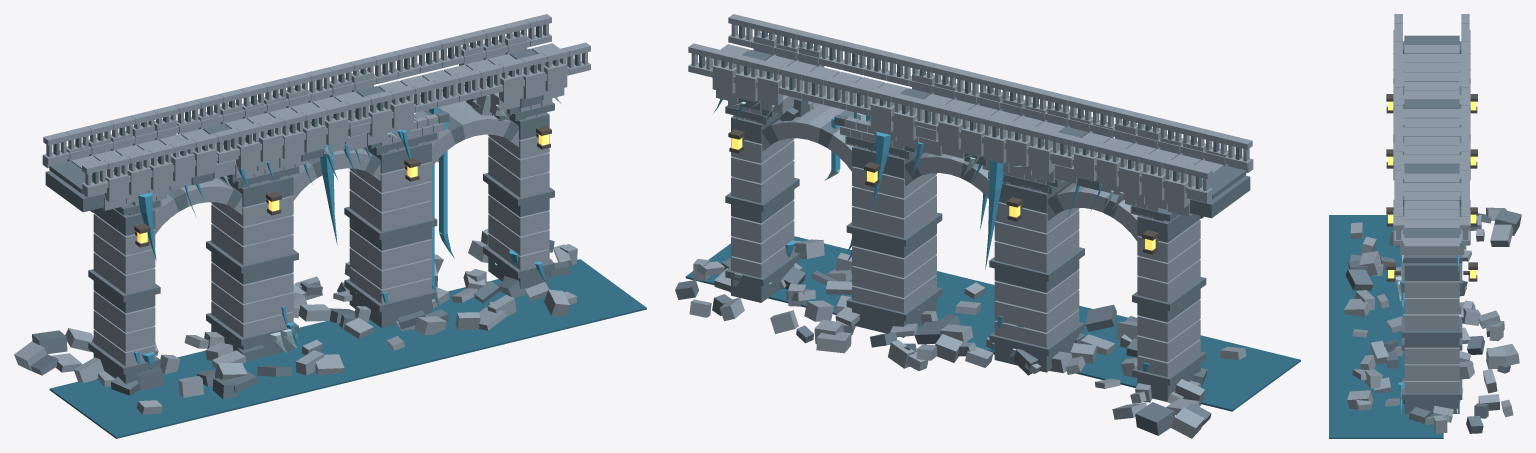
File: ancient_ice_bridge_v02.glb
3 renders of one model, left to right at view 1: azimuth 30°, elevation 25°; view 2: azimuth 150°, elevation 25°; view 3: azimuth 270°, elevation 25°, orthographic. The views are drawn at different scales.
Parts seen in each view (by area): view 1: Frozen pool, Load bearing pier block.002, Load bearing pier block.003, Load bearing pier block.030, Load bearing pier block.005, Load bearing pier block.029, Load bearing pier block.033, Load bearing pier block.032, Load bearing pier block.006, Load bearing pier block.048, Load bearing pier block.047, Load bearing pier block.051 (+34 smaller); view 2: Frozen pool, Load bearing pier block.002, Load bearing pier block.048, Load bearing pier block.003, Load bearing pier block.047, Load bearing pier block.051, Load bearing pier block.012, Load bearing pier block.029, Load bearing pier block.006, Load bearing pier block.015, Load bearing pier block.005, Load bearing pier block.014 (+53 smaller); view 3: Frozen pool, Load bearing pier block.053, Load bearing pier block.048, Load bearing pier block.047, Load bearing pier block.050, Load bearing pier block.052, Load bearing pier block.051, Bridge walking surface.022, Load bearing pier block.046, Load bearing pier block.045, Bridge walking surface, Bridge walking surface.001 (+50 smaller).
Boxes of the visible parts, left/top/right/bottom form: Frozen pool: left=49, top=259, right=646, bottom=438; Load bearing pier block.002: left=93, top=310, right=155, bottom=351; Load bearing pier block.003: left=93, top=291, right=155, bottom=332; Load bearing pier block.030: left=349, top=228, right=411, bottom=270; Load bearing pier block.005: left=93, top=252, right=155, bottom=293; Load bearing pier block.029: left=349, top=248, right=411, bottom=289; Load bearing pier block.033: left=349, top=170, right=411, bottom=212; Load bearing pier block.032: left=349, top=190, right=411, bottom=231; Load bearing pier block.006: left=93, top=233, right=155, bottom=274; Load bearing pier block.048: left=488, top=195, right=549, bottom=236; Load bearing pier block.047: left=488, top=214, right=549, bottom=255; Load bearing pier block.051: left=488, top=137, right=549, bottom=178; Frozen pool: left=685, top=236, right=1300, bottom=411; Load bearing pier block.002: left=1137, top=319, right=1200, bottom=362; Load bearing pier block.048: left=731, top=200, right=794, bottom=243; Load bearing pier block.003: left=1137, top=299, right=1200, bottom=342; Load bearing pier block.047: left=731, top=220, right=794, bottom=262; Load bearing pier block.051: left=731, top=140, right=794, bottom=183; Load bearing pier block.012: left=1016, top=270, right=1079, bottom=312; Load bearing pier block.029: left=873, top=255, right=936, bottom=297; Load bearing pier block.006: left=1137, top=240, right=1200, bottom=282; Load bearing pier block.015: left=1016, top=210, right=1079, bottom=252; Load bearing pier block.005: left=1137, top=259, right=1200, bottom=302; Load bearing pier block.014: left=1016, top=230, right=1079, bottom=272; Frozen pool: left=1329, top=215, right=1443, bottom=438; Load bearing pier block.053: left=1404, top=263, right=1459, bottom=281; Load bearing pier block.048: left=1404, top=347, right=1459, bottom=364; Load bearing pier block.047: left=1404, top=364, right=1459, bottom=380; Load bearing pier block.050: left=1404, top=314, right=1459, bottom=330; Load bearing pier block.052: left=1404, top=281, right=1459, bottom=297; Load bearing pier block.051: left=1404, top=298, right=1459, bottom=314; Bridge walking surface.022: left=1404, top=237, right=1459, bottom=250; Load bearing pier block.046: left=1404, top=381, right=1459, bottom=393; Load bearing pier block.045: left=1404, top=400, right=1459, bottom=413; Bridge walking surface: left=1404, top=35, right=1459, bottom=44; Bridge walking surface.001: left=1404, top=44, right=1459, bottom=53.
Size of the model in its own units: 23.01 by 10.18 by 8.42.
